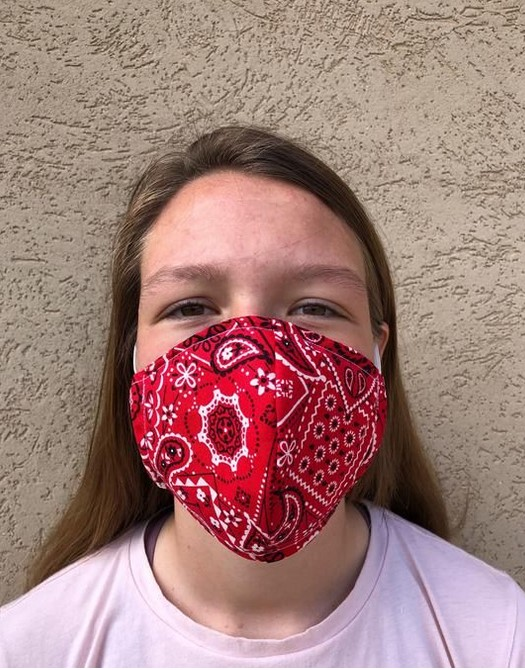face_with_mask: (120, 134, 394, 562)
